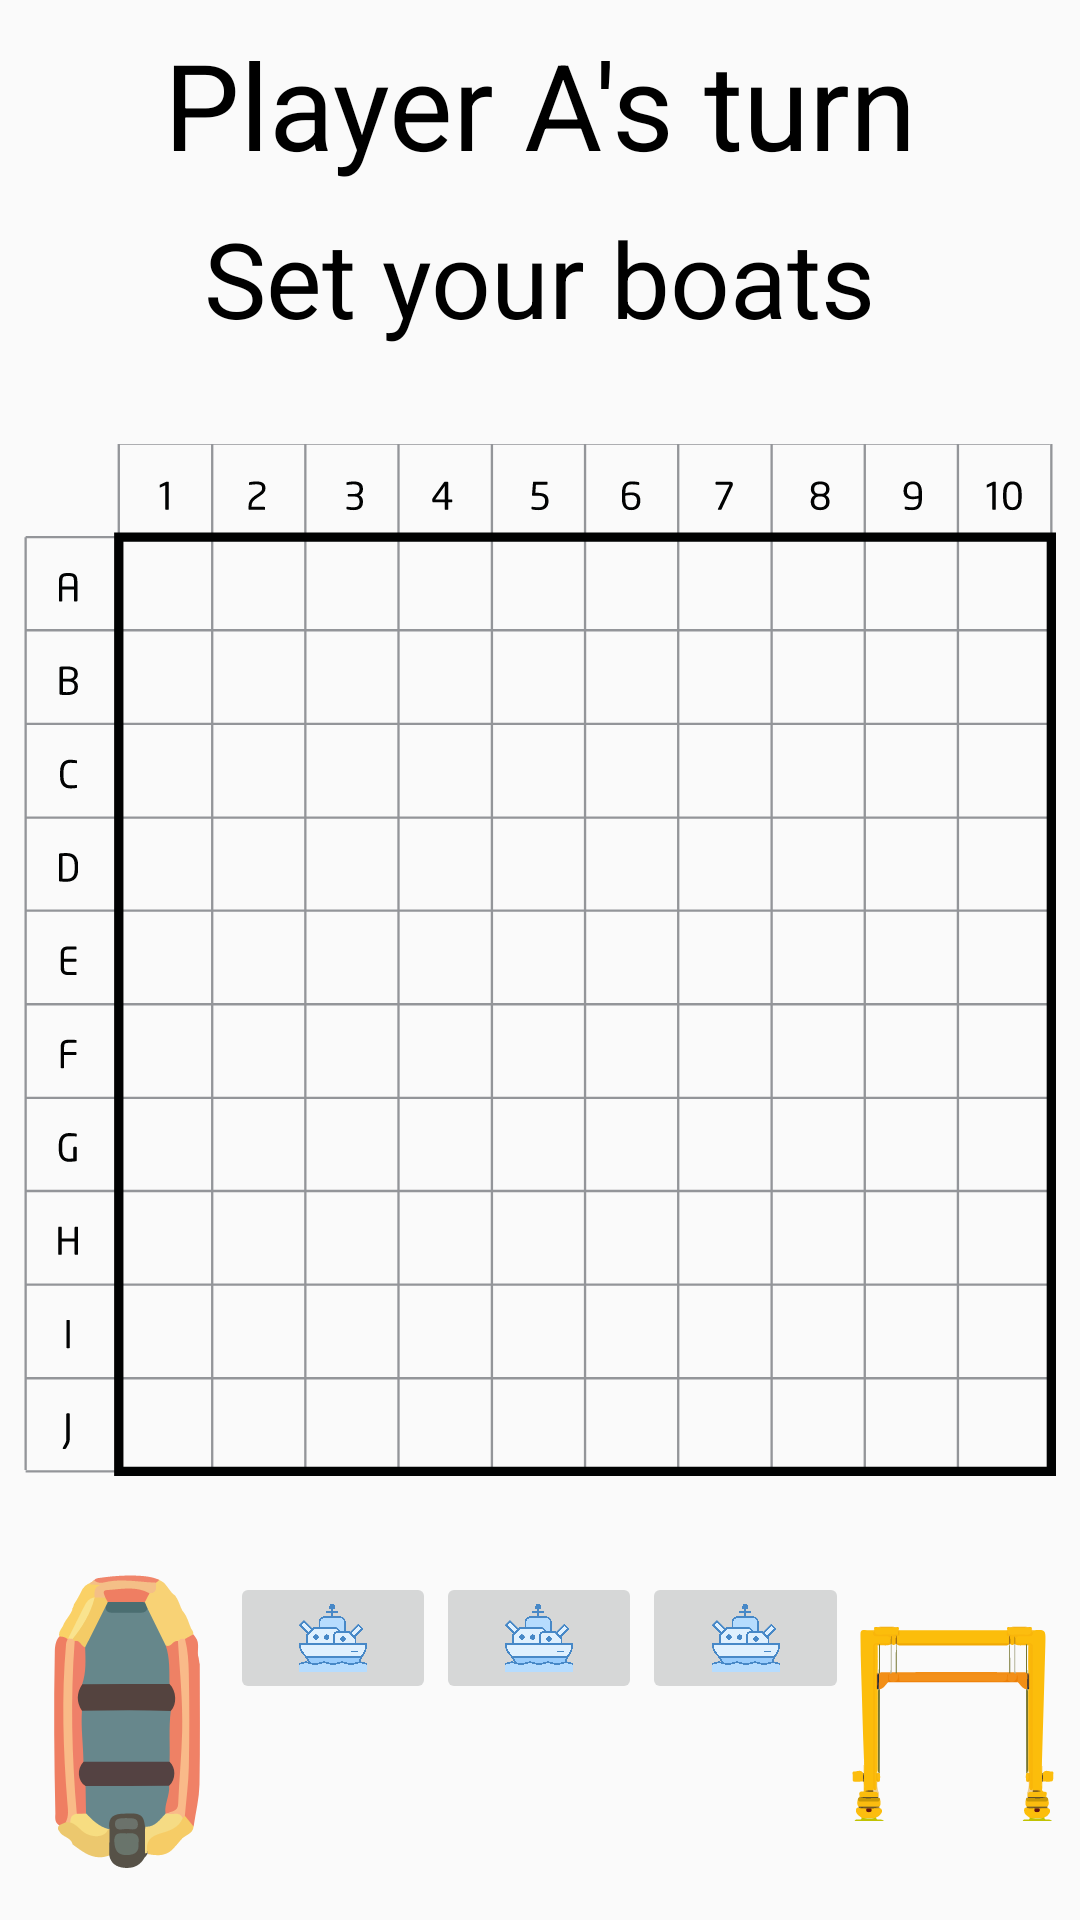

Where icons sit on this 1080 × 1920 app screen, as (x1, y1, x2, y2):
battleship: (242, 1590, 424, 1686), (448, 1590, 630, 1686), (654, 1590, 837, 1686)
schiffskran: (852, 1626, 1054, 1821)
schlauchboot komplett: (54, 1575, 200, 1868)
